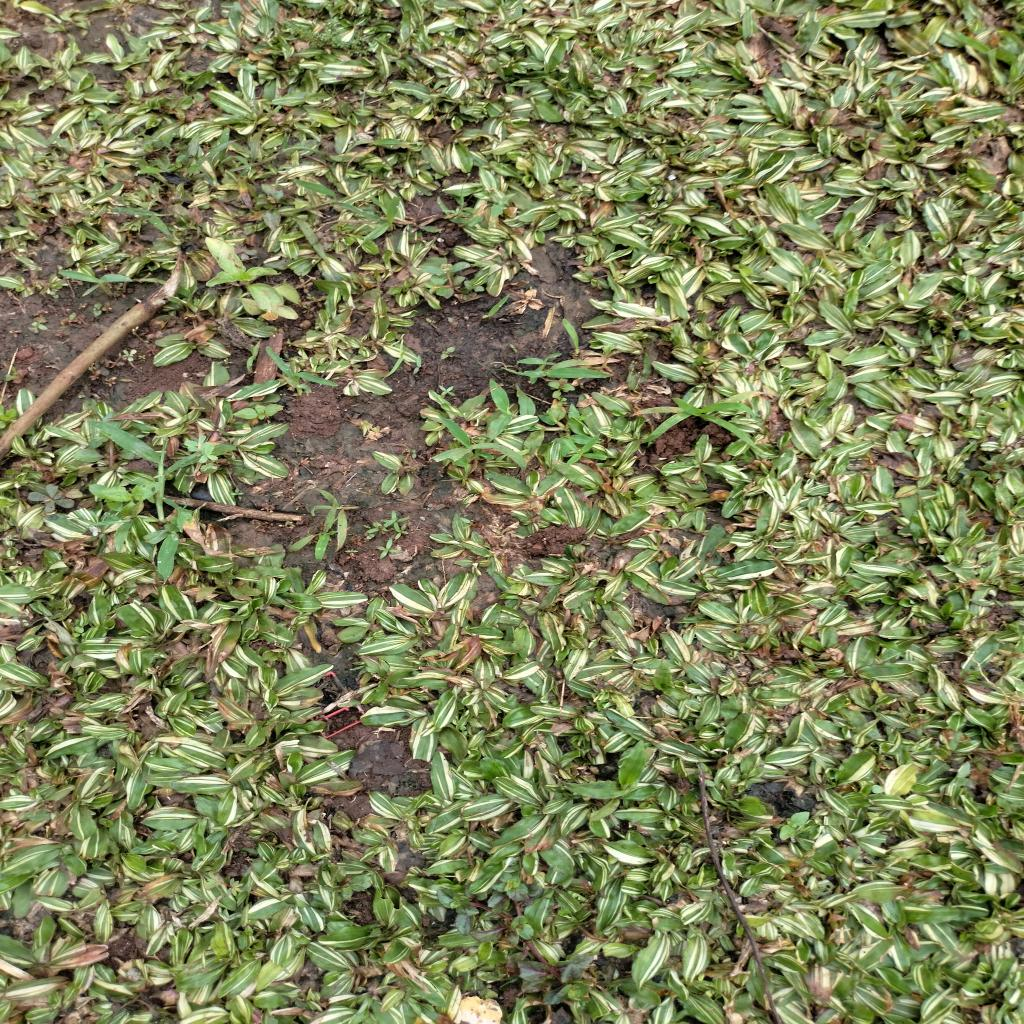bayi: (384, 510, 414, 534), (363, 518, 388, 542), (376, 540, 400, 557), (438, 384, 457, 398), (341, 545, 363, 556)
buah daun: (197, 868, 247, 900)
lumut besar: (279, 17, 374, 62)
rambat atas: (80, 416, 184, 586), (630, 396, 766, 450), (477, 386, 584, 438), (302, 485, 362, 563), (261, 342, 340, 401), (509, 353, 624, 388), (49, 264, 135, 303), (292, 178, 364, 216), (186, 127, 240, 175), (353, 196, 402, 240), (216, 126, 253, 178), (110, 206, 172, 233), (256, 147, 325, 164), (381, 337, 406, 382), (479, 292, 512, 320), (561, 316, 581, 354), (246, 339, 261, 375)
tunggang besar: (776, 807, 816, 844)
tunggang tengah: (421, 259, 493, 305)
ungu tunggang: (429, 873, 601, 1010)
